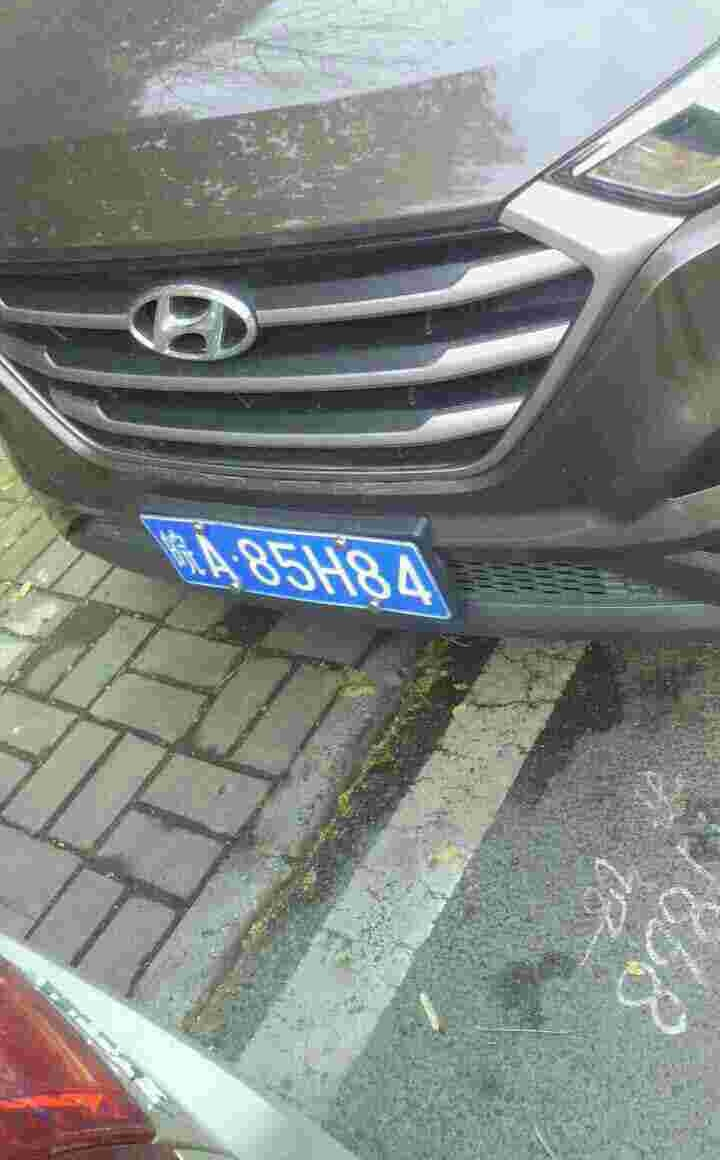license_plate: (158, 521, 441, 624)
